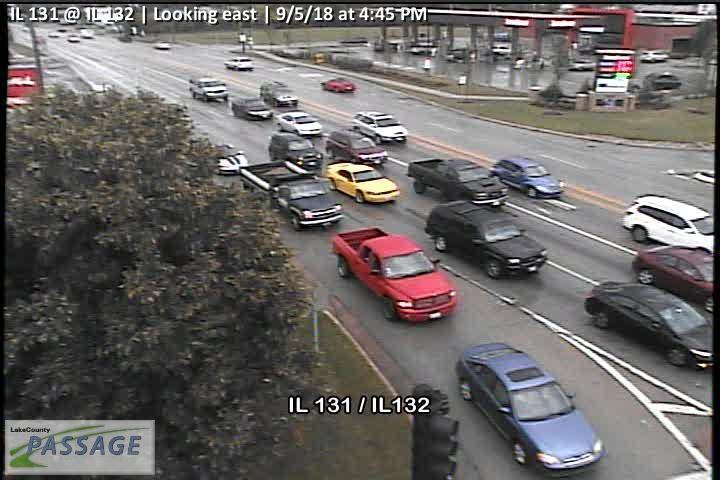SUV: (423, 200, 549, 282), (622, 193, 720, 254), (488, 153, 565, 200), (324, 128, 389, 167), (269, 131, 324, 171), (351, 111, 409, 144), (259, 80, 299, 107), (221, 55, 254, 71)
Sedan: (457, 342, 606, 475), (583, 279, 719, 371), (631, 244, 720, 310), (324, 160, 401, 205), (201, 142, 248, 175), (275, 110, 322, 136), (231, 94, 274, 121), (321, 77, 356, 93), (152, 39, 171, 49)
Truck: (330, 226, 460, 325), (239, 157, 345, 229), (408, 155, 509, 210), (187, 74, 228, 102)
